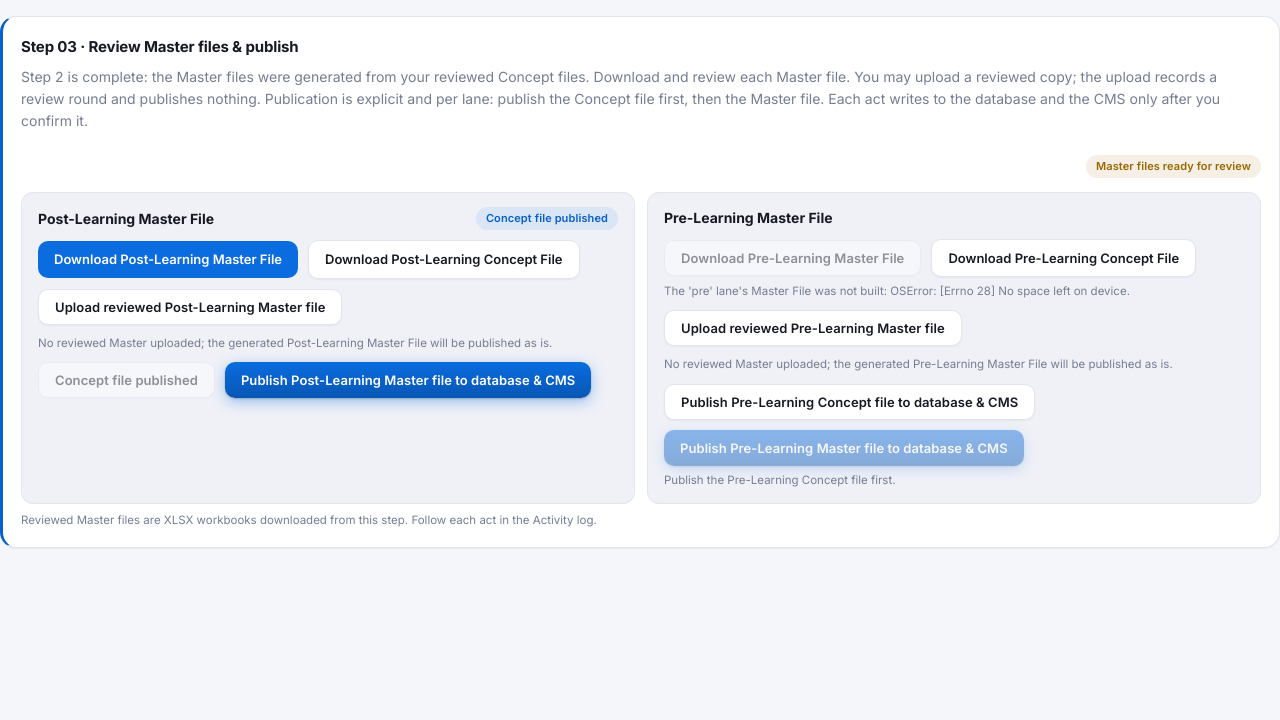
Scenario: a refused publication is shown readably and the lane stays publishable
The width and height of the screenshot is (1280, 720).
Click the button with test id "publish-master-post" at (408, 380), box [225,362,591,398]
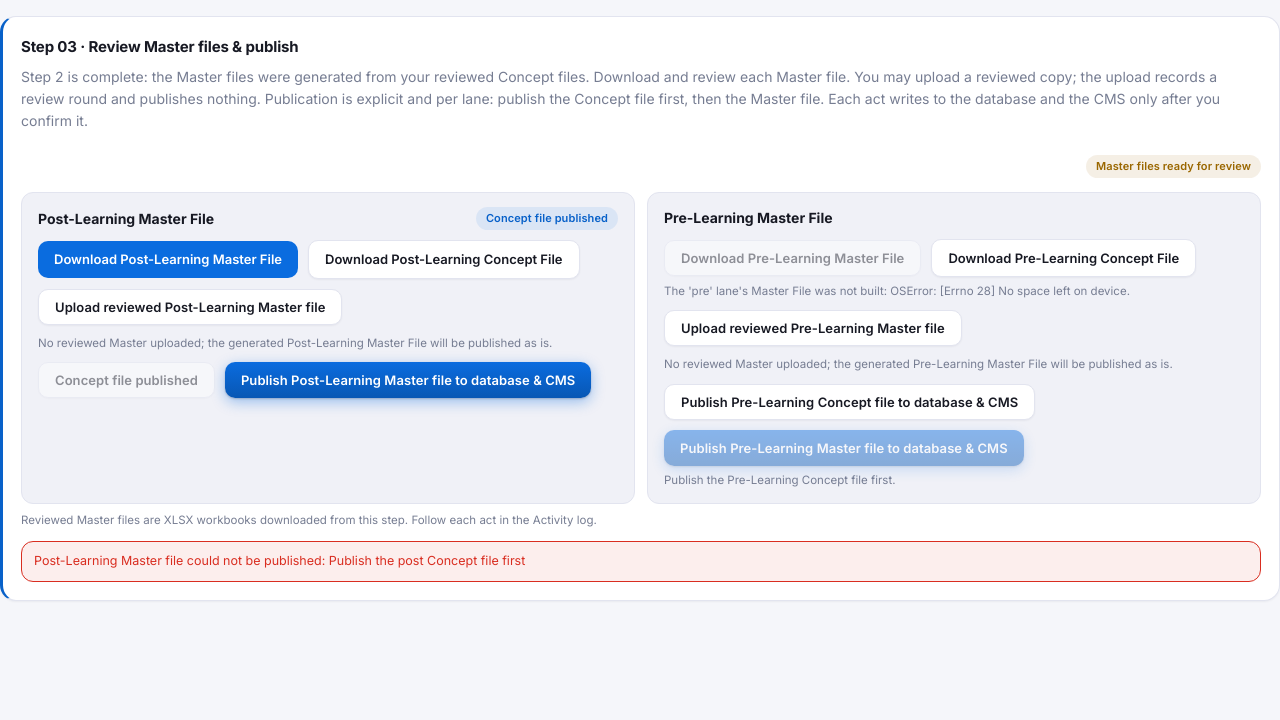
Expected: the message shows "Post-Learning Master file could not be published", [34,553,525,568]
Expected: the message shows "Publish the post Concept file first", [34,553,525,568]
